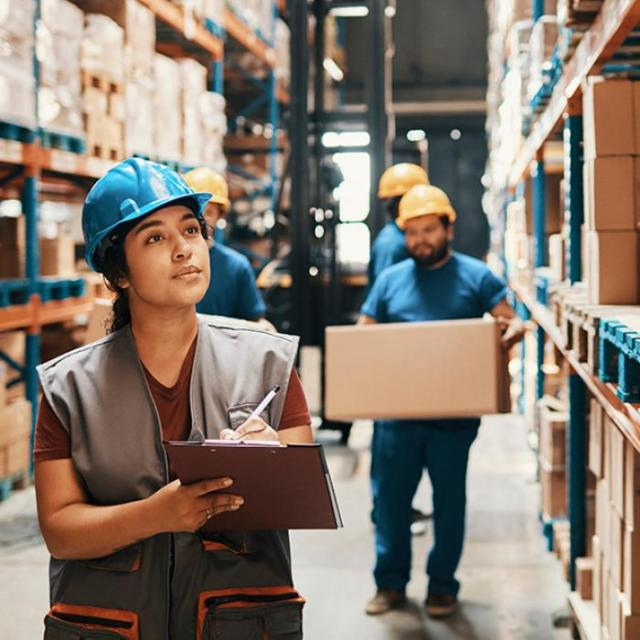Safety-Helmet: (73, 151, 213, 255), (396, 182, 457, 227), (182, 162, 235, 210), (377, 160, 433, 201)
